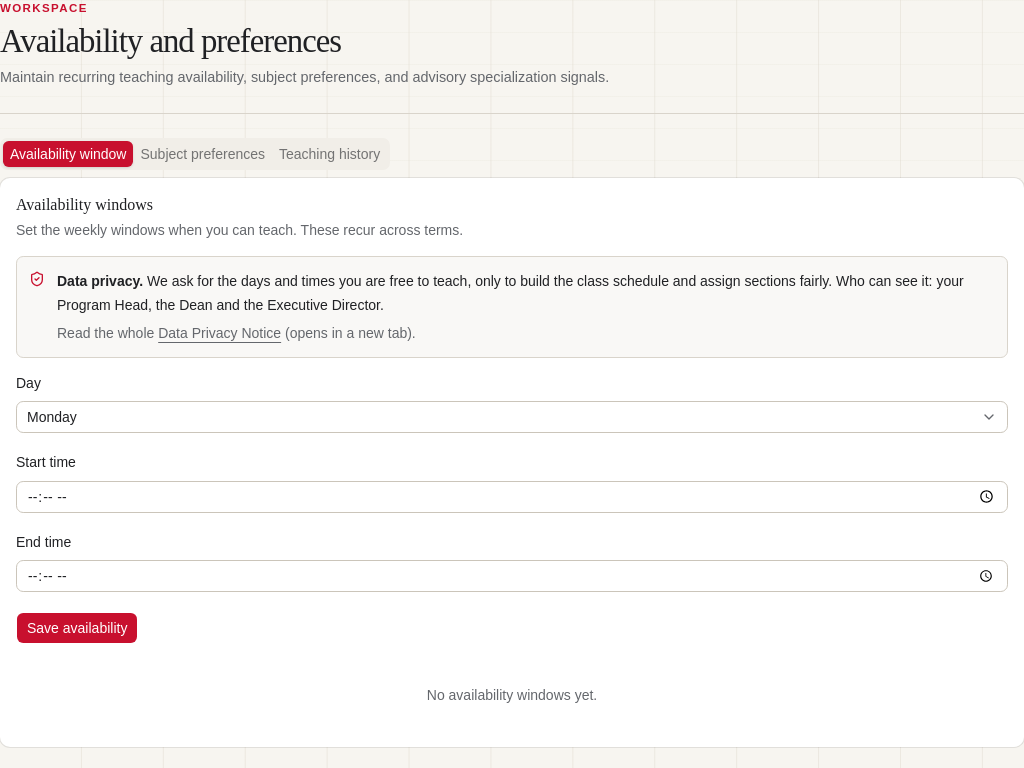
Test case: FacultySubjectPreferencePanel › shows the subject picker, optional rank, and specialization proficiency
Step 1. Click the tab "Subject preferences" → (203, 154), box [134, 141, 272, 167]
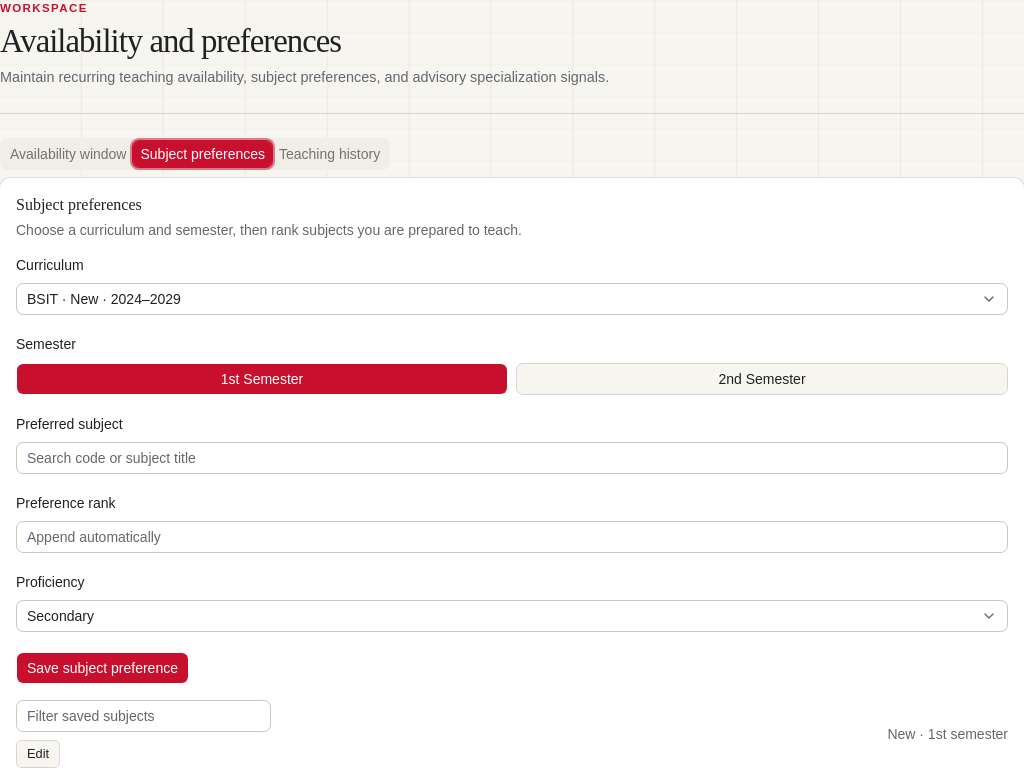
Expected: the dropdown labelled "Preferred subject" is enabled, [16, 442, 1008, 474]
Expected: the dropdown named "Proficiency" is shown, [16, 600, 1008, 632]
